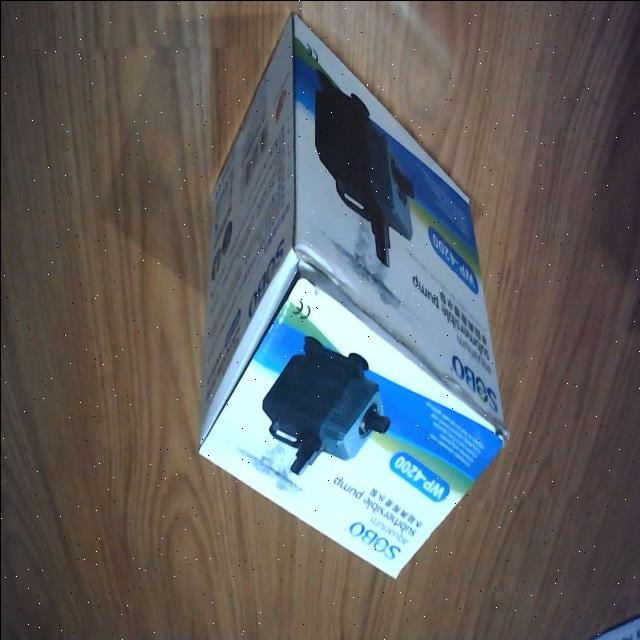SOBO_WP_4200: (184, 5, 508, 585)
